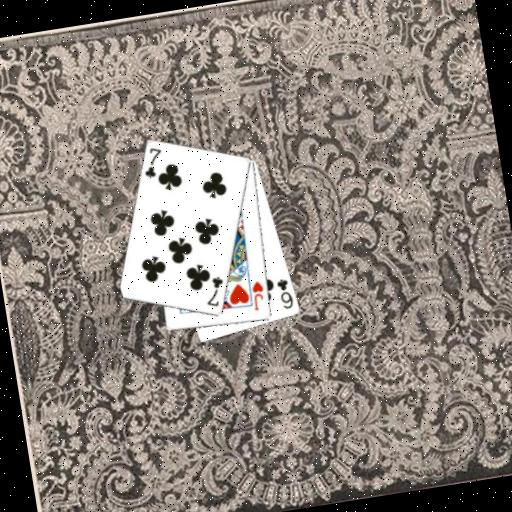6C: (272, 275, 295, 312)
7C: (199, 272, 228, 309), (138, 143, 167, 180)
JH: (247, 277, 268, 313)
